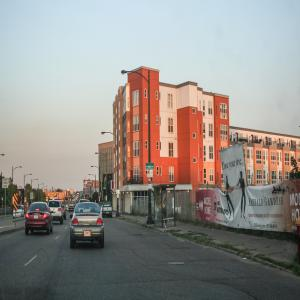Vehicle-registration-plate: (85, 231, 92, 239), (35, 215, 39, 220)
